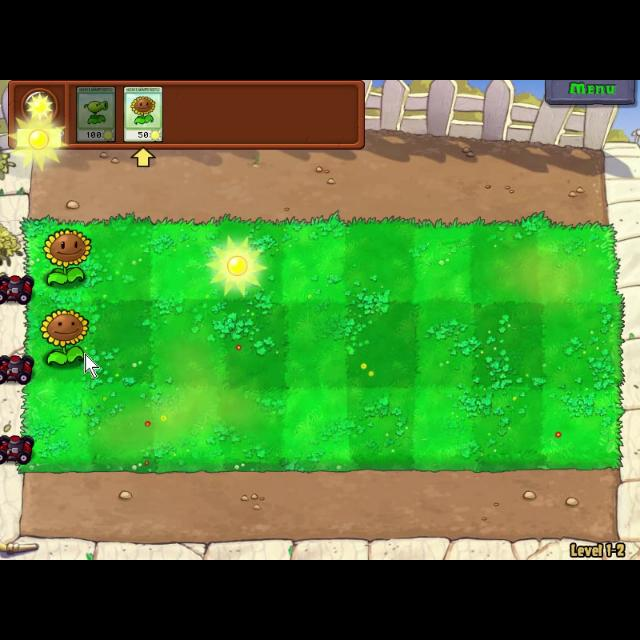Garden: (14, 213, 624, 474)
Menu Button: (544, 80, 638, 106)
Mower: (0, 428, 40, 467), (0, 268, 38, 308), (0, 350, 40, 388)
Peashooter: (75, 84, 117, 144)
Seed Panel: (3, 80, 369, 150)
Sun: (203, 232, 270, 302), (6, 112, 72, 174)
Sunflower: (121, 83, 165, 147)
Sunflower Seed: (36, 306, 92, 372), (38, 228, 92, 286)
